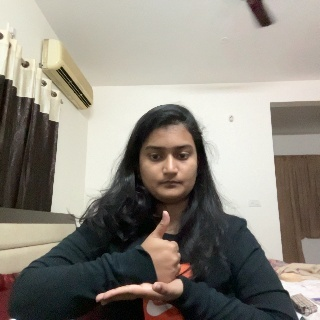Face: (136, 115, 197, 204)
Help: (121, 212, 196, 312)
